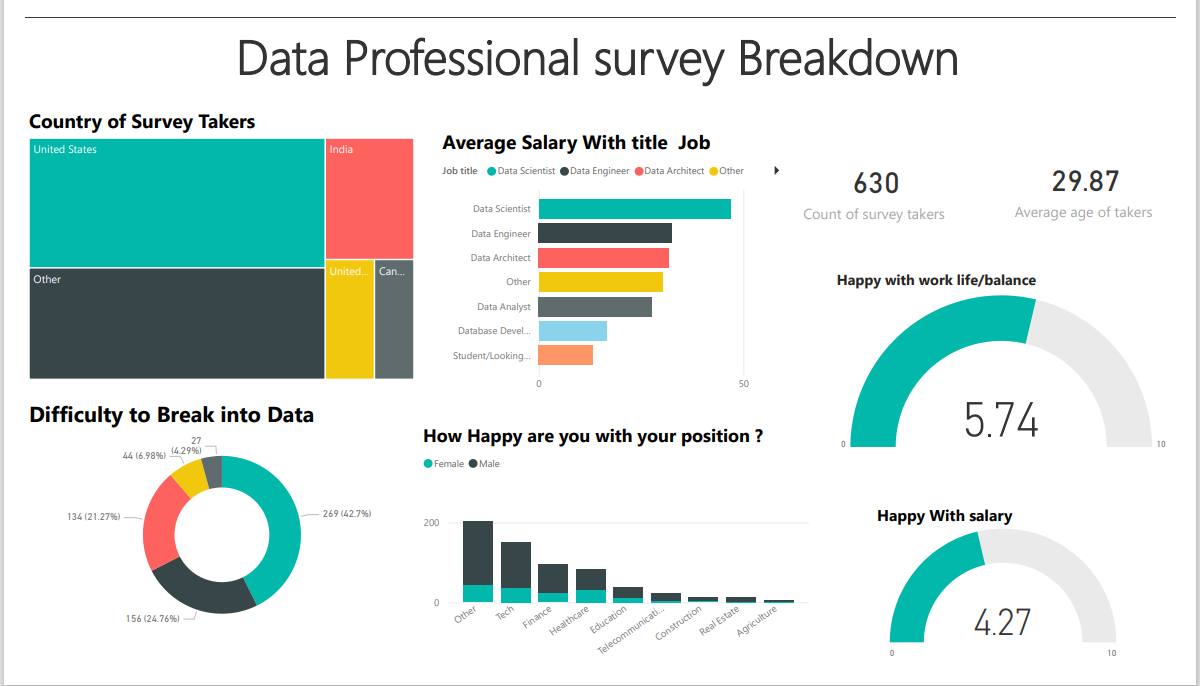

This screenshot's page, from the dashboard's own definition file:
{"tool":"powerbi","page":{"name":"Page 1","canvas":[1280,720],"ordinal":0},"visuals":[{"type":"textbox","box":[9.5,0,1269.9,98.5],"z":0},{"type":"card","fields":{"Values":["Count(Data Professional Survey (2).Unique ID)"]},"box":[811.7,114.4,271.3,152.6],"z":1000},{"type":"card","fields":{"Values":["Avg(Data Professional Survey (2).Q10 - Current Age)"]},"box":[1082.4,114.4,197.1,149.4],"z":2000},{"type":"barChart","title":"Average Salary With title  Job ","fields":{"Category":["Data Professional Survey (2).Q1 - Which Title Best Fits your Current Role?"],"Y":["Avg(Data Professional Survey (2).Avairage)"],"Series":["Data Professional Survey (2).Q1 - Which Title Best Fits your Current Role?"]},"box":[459.9,122.9,396.3,300.9],"z":3000},{"type":"treemap","title":"Country of Survey Takers ","fields":{"Group":["Data Professional Survey (2).Q11 - Which Country do you live in?"],"Values":["CountNonNull(Data Professional Survey (2).Q11 - Which Country do you live in?)"]},"box":[0,100,438.3,306.7],"z":4000},{"type":"gauge","title":"Happy with work life/balance","fields":{"Y":["Avg(Data Professional Survey (2).Q6 - How Happy are you in your Current Position with the following? (Work/Life Balance)"],"MinValue":["Min(Data Professional Survey (2).Q6 - How Happy are you in your Current Position with the following? (Work/Life Balance)"],"MaxValue":["Max(Data Professional Survey (2).Q6 - How Happy are you in your Current Position with the following? (Work/Life Balance)"]},"box":[898.5,279.7,381.5,209.8],"z":5000},{"type":"gauge","title":"Happy With salary","fields":{"Y":["Avg(Data Professional Survey (2).Q6 - How Happy are you in your Current Position with the following? (Salary))"],"MinValue":["Min(Data Professional Survey (2).Q6 - How Happy are you in your Current Position with the following? (Upward Mobility))"],"MaxValue":["Max(Data Professional Survey (2).Q6 - How Happy are you in your Current Position with the following? (Upward Mobility))"]},"box":[943,540.4,290.3,180.1],"z":6000},{"type":"donutChart","title":"Difficulty to Break into Data","fields":{"Category":["Data Professional Survey (2).Q7 - How difficult was it for you to break into Data?"],"Y":["CountNonNull(Data Professional Survey (2).Q7 - How difficult was it for you to break into Data?)"]},"box":[0,423.8,438.7,271.3],"z":7000},{"type":"columnChart","title":"How Happy are you with your position ? ","fields":{"Category":["Data Professional Survey (2).Q4 - What Industry do you work in?"],"Y":["CountNonNull(Data Professional Survey (2).Q9 - Male/Female?)"],"Series":["Data Professional Survey (2).Q9 - Male/Female?"]},"box":[438.7,449.3,438.7,271.3],"z":8000}]}

Visuals, with their boxes in screenshot pixels (x1, y1, x2, y2), scaled from the page's 1280x720 canvas onto the 1200x686 screenshot:
textbox: select_region(9, 0, 1199, 94)
card - Count(Data Professional Survey (2).Unique ID): select_region(761, 109, 1015, 254)
card - Avg(Data Professional Survey (2).Q10 - Current Age): select_region(1015, 109, 1199, 251)
"Average Salary With title  Job " barChart: select_region(431, 117, 803, 404)
"Country of Survey Takers " treemap: select_region(0, 95, 411, 387)
"Happy with work life/balance" gauge: select_region(842, 266, 1199, 466)
"Happy With salary" gauge: select_region(884, 515, 1156, 685)
"Difficulty to Break into Data" donutChart: select_region(0, 404, 411, 662)
"How Happy are you with your position ? " columnChart: select_region(411, 428, 823, 685)
